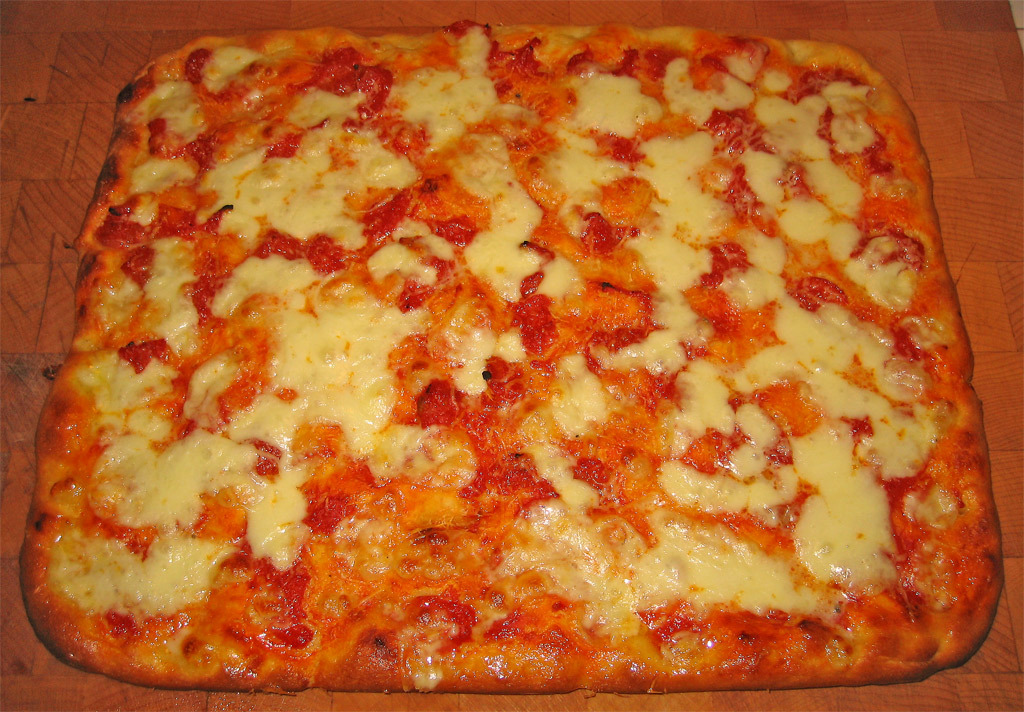Pizza: (21, 16, 1009, 695)
